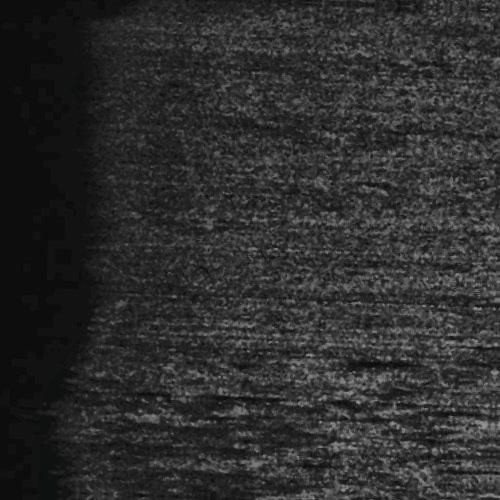object: (308, 351, 371, 360)
shadow: (340, 351, 443, 360)
